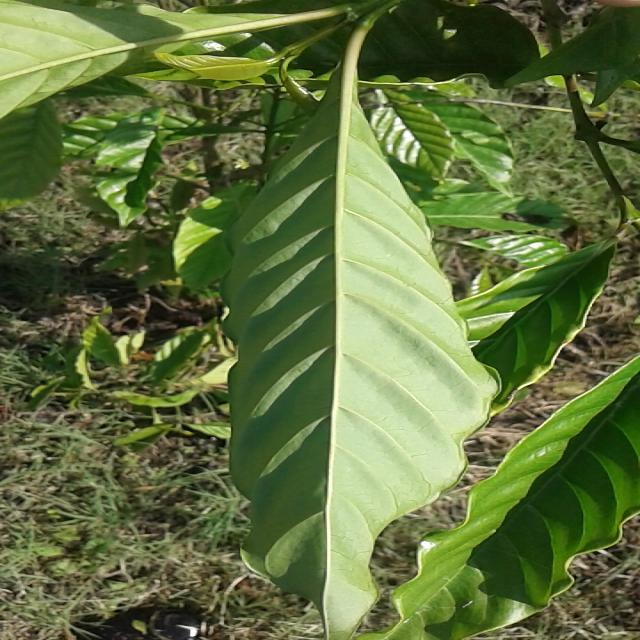Sanas: (177, 93, 498, 634)
